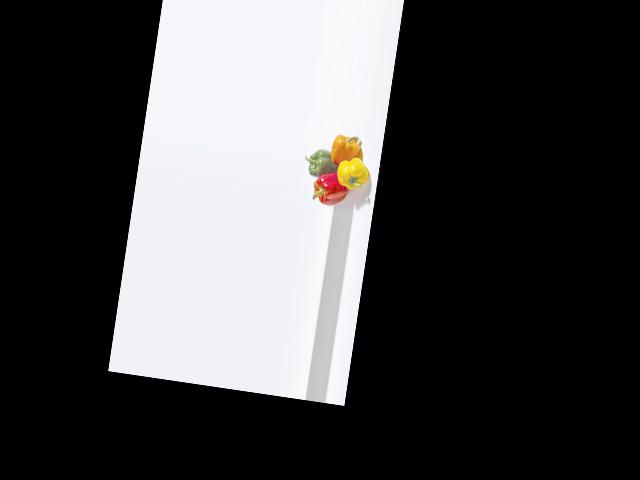bell_pepper: (307, 169, 350, 209)
